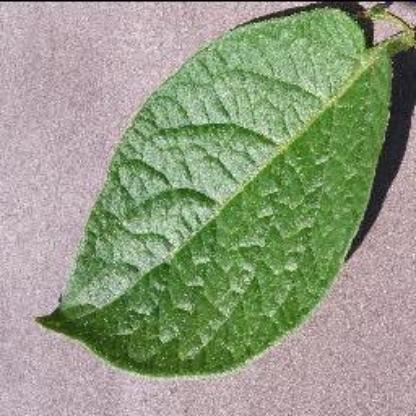Healthy-plant: (32, 4, 400, 392)
